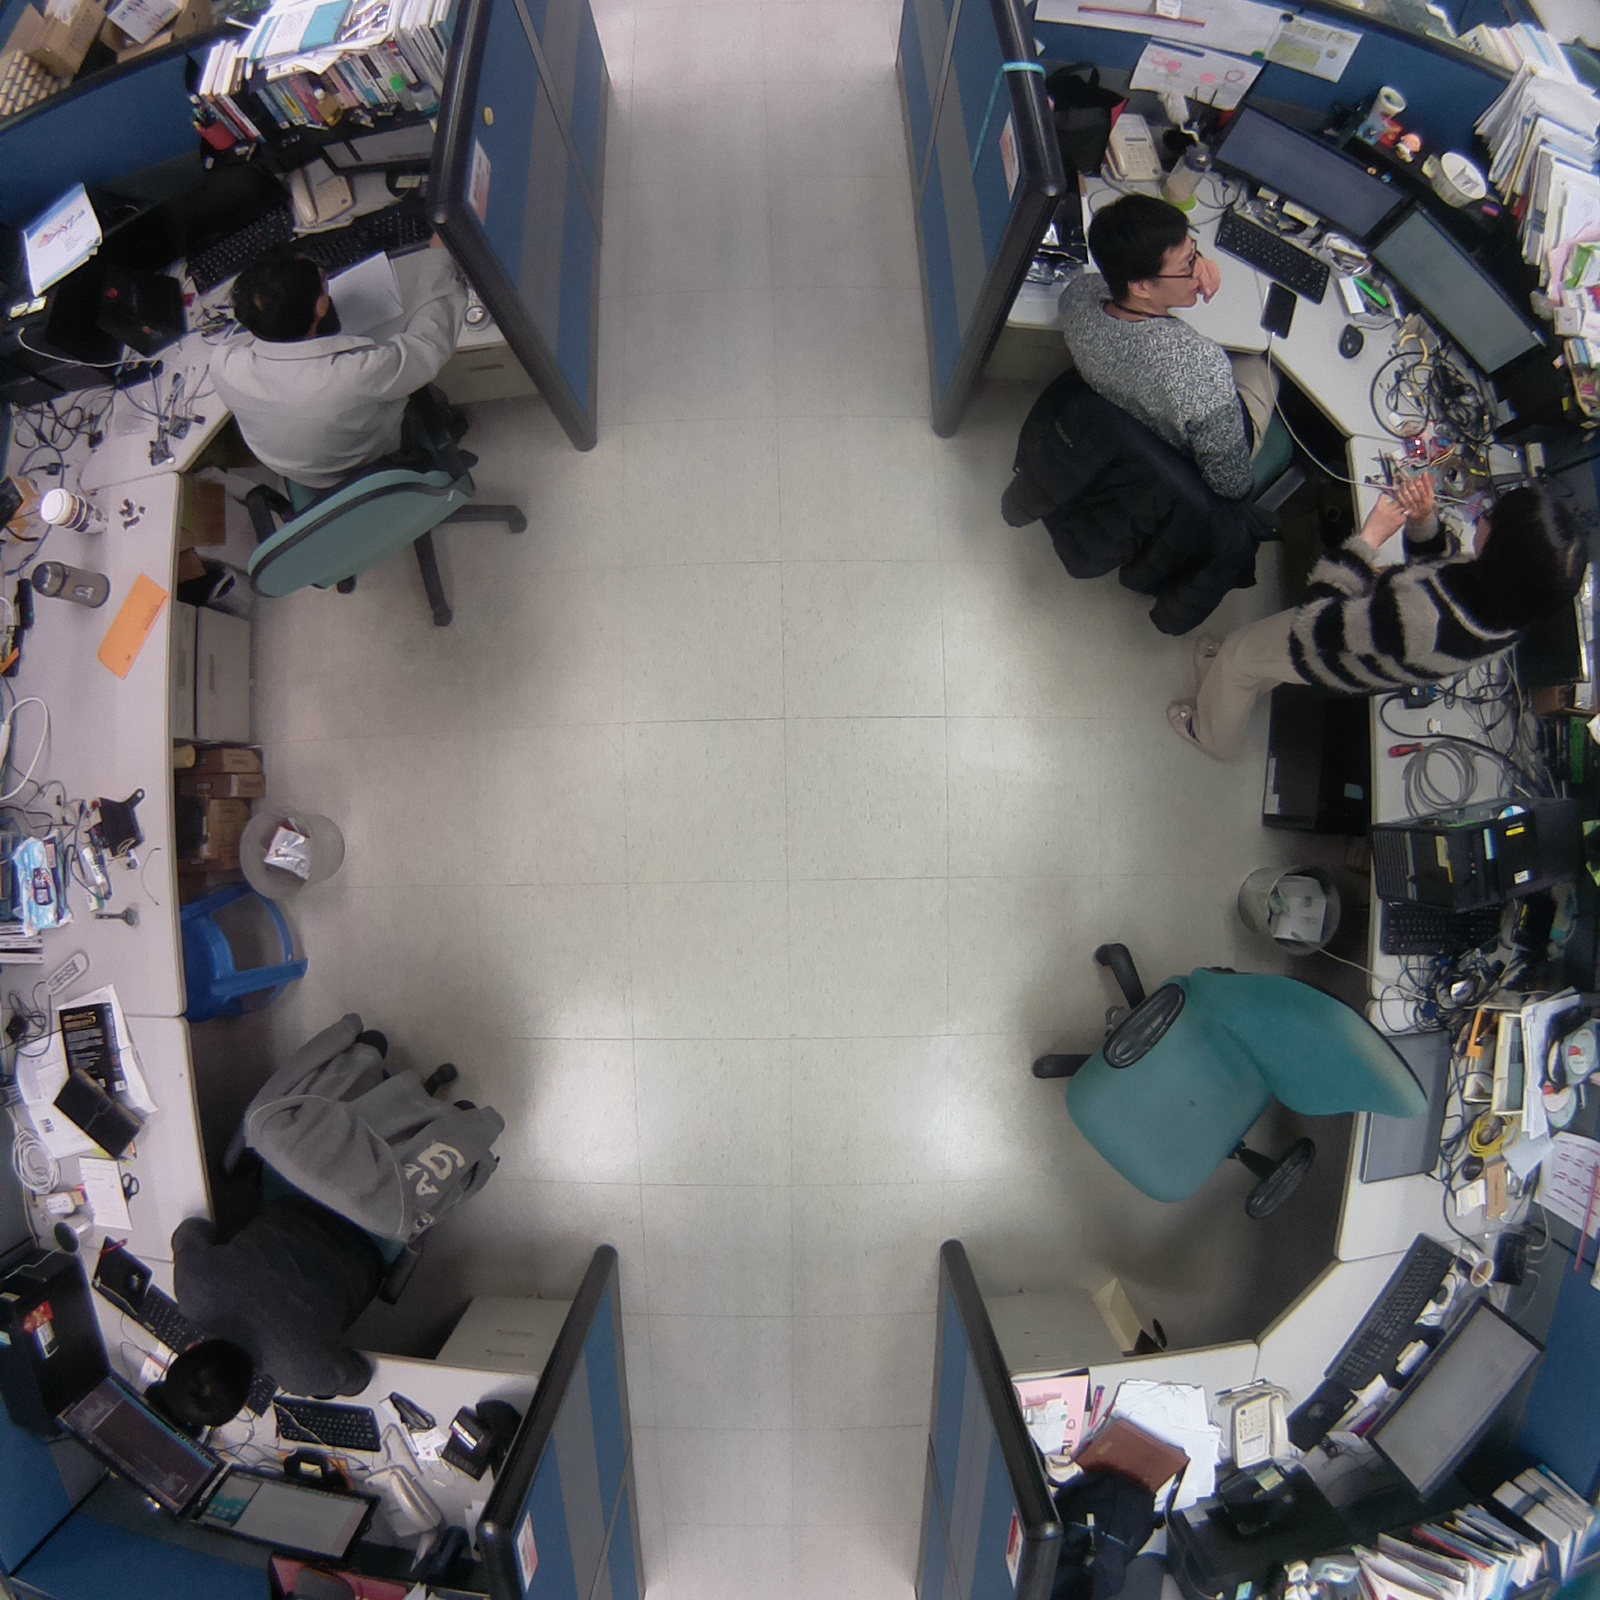chair: (1008, 926, 1440, 1223)
sitting: (127, 999, 519, 1471), (192, 190, 544, 651), (989, 174, 1322, 653)
